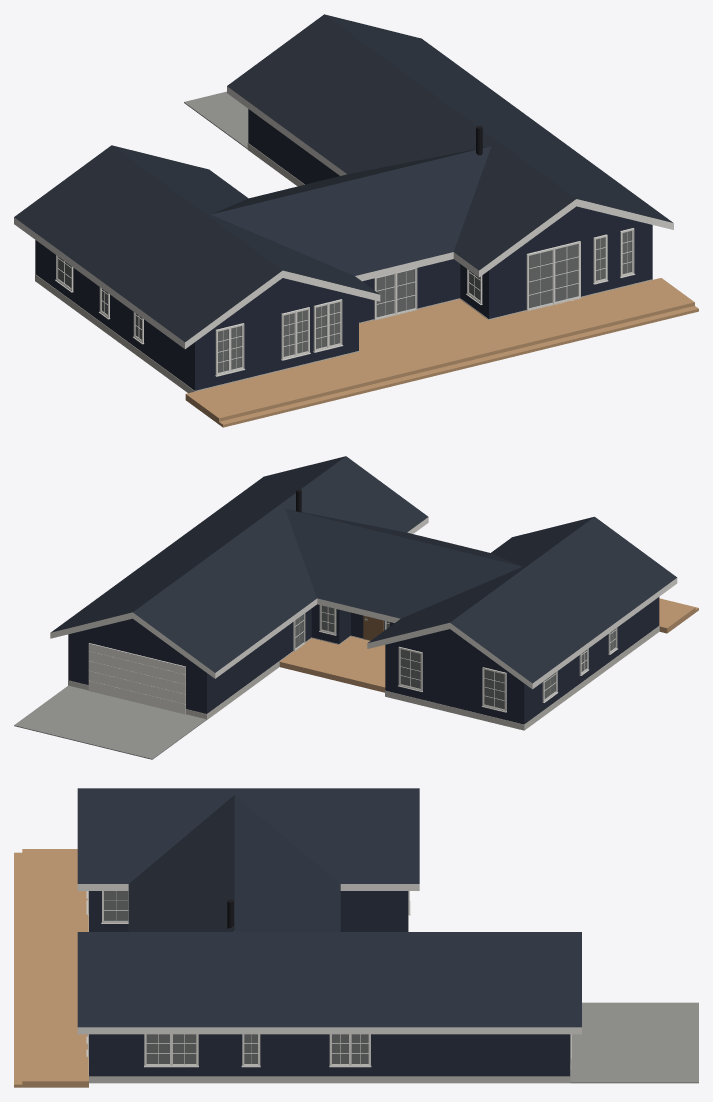
File: teder270_c0_p0_m1.glb
3 views of the same model, one above another, from view 1: azimuth 30°, elevation 25°; view 2: azimuth 150°, elevation 25°; view 3: azimuth 270°, elevation 25° (orthographic). The views are drawn at different scales.
Visible parts, largest first — view 1: roof, wall, deck, glass, curtain, frame, fascia, plinth, paving; view 2: roof, wall, fascia, paving, deck, plinth, frame, glass, curtain; view 3: roof, wall, deck, paving, fascia, plinth, glass, curtain, frame.
Part boxes in pixels (<box>): roof: <box>14,14,672,341</box>; wall: <box>35,109,652,390</box>; deck: <box>185,278,698,427</box>; glass: <box>57,231,631,372</box>; curtain: <box>58,231,631,372</box>; frame: <box>55,228,635,376</box>; fascia: <box>14,86,673,348</box>; plinth: <box>35,143,652,393</box>; paving: <box>184,91,248,149</box>; roof: <box>51,456,676,683</box>; wall: <box>68,597,659,724</box>; fascia: <box>50,517,677,714</box>; paving: <box>14,685,206,759</box>; deck: <box>279,598,698,692</box>; plinth: <box>68,626,659,730</box>; frame: <box>88,605,617,712</box>; glass: <box>295,605,615,709</box>; curtain: <box>295,605,615,708</box>; roof: <box>77,788,581,1027</box>; wall: <box>89,891,570,1076</box>; deck: <box>14,849,88,1087</box>; paving: <box>570,1002,698,1083</box>; fascia: <box>77,884,581,1070</box>; plinth: <box>88,915,570,1083</box>; glass: <box>104,891,368,1063</box>; curtain: <box>104,891,368,1063</box>; frame: <box>86,891,571,1067</box>.
Bounding box in the file's own units: 21.93 × 5.66 × 26.62.
13 materials, 5 textured.
